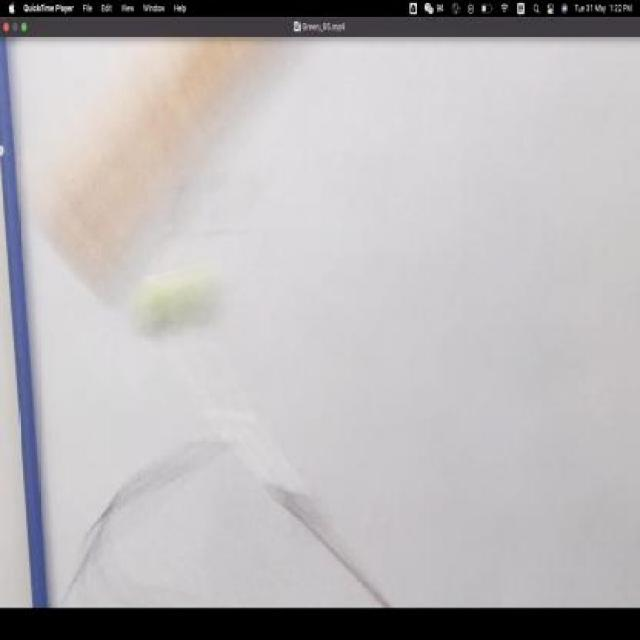baseball: (136, 256, 222, 342)
